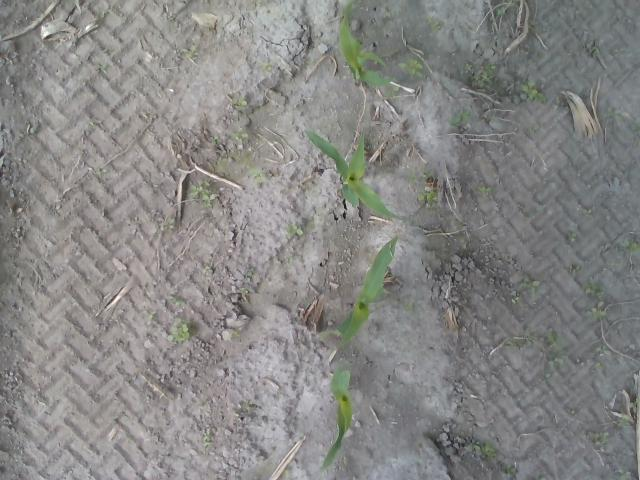Maize: (296, 125, 415, 223), (338, 234, 400, 342), (332, 0, 398, 89), (318, 370, 354, 472)
Weeds: (543, 332, 565, 369), (464, 61, 497, 82), (398, 55, 425, 77), (169, 322, 192, 343), (522, 80, 544, 101), (190, 184, 211, 205), (604, 104, 624, 122), (447, 110, 469, 124), (246, 166, 265, 182), (590, 298, 606, 317), (417, 188, 438, 202), (584, 281, 604, 294), (426, 16, 441, 33), (286, 223, 304, 237), (624, 239, 640, 254), (522, 277, 540, 290), (160, 216, 176, 230), (593, 432, 609, 446), (230, 98, 248, 110), (480, 444, 498, 456), (182, 47, 200, 58), (212, 158, 226, 172), (230, 130, 248, 140), (594, 343, 610, 353), (95, 166, 108, 178), (240, 151, 252, 164), (202, 433, 214, 446), (502, 464, 517, 474), (478, 183, 494, 192), (510, 296, 524, 306), (468, 438, 481, 448), (174, 296, 187, 305), (210, 135, 220, 145), (239, 286, 251, 294)
